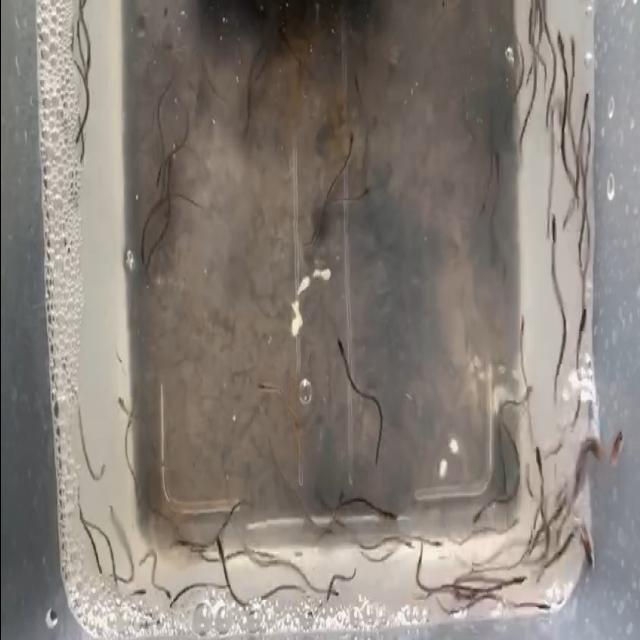inactive_glass_eel: (599, 432, 623, 474), (470, 486, 494, 524), (563, 31, 579, 83), (353, 178, 373, 214), (578, 532, 595, 569), (322, 577, 342, 608), (254, 368, 274, 398), (116, 391, 133, 426), (350, 68, 364, 110), (572, 312, 588, 348), (554, 20, 564, 74), (397, 526, 415, 556), (126, 578, 146, 604), (500, 575, 528, 593), (134, 225, 148, 261), (548, 213, 560, 253), (378, 505, 398, 529), (305, 598, 321, 628), (170, 534, 190, 558), (343, 119, 354, 161), (334, 326, 346, 364), (520, 376, 534, 408), (164, 592, 178, 624), (534, 439, 546, 476), (156, 581, 173, 607), (576, 94, 588, 130), (426, 534, 444, 558), (212, 532, 224, 566), (506, 513, 520, 540), (531, 599, 549, 617), (152, 158, 162, 188), (516, 306, 524, 340)
